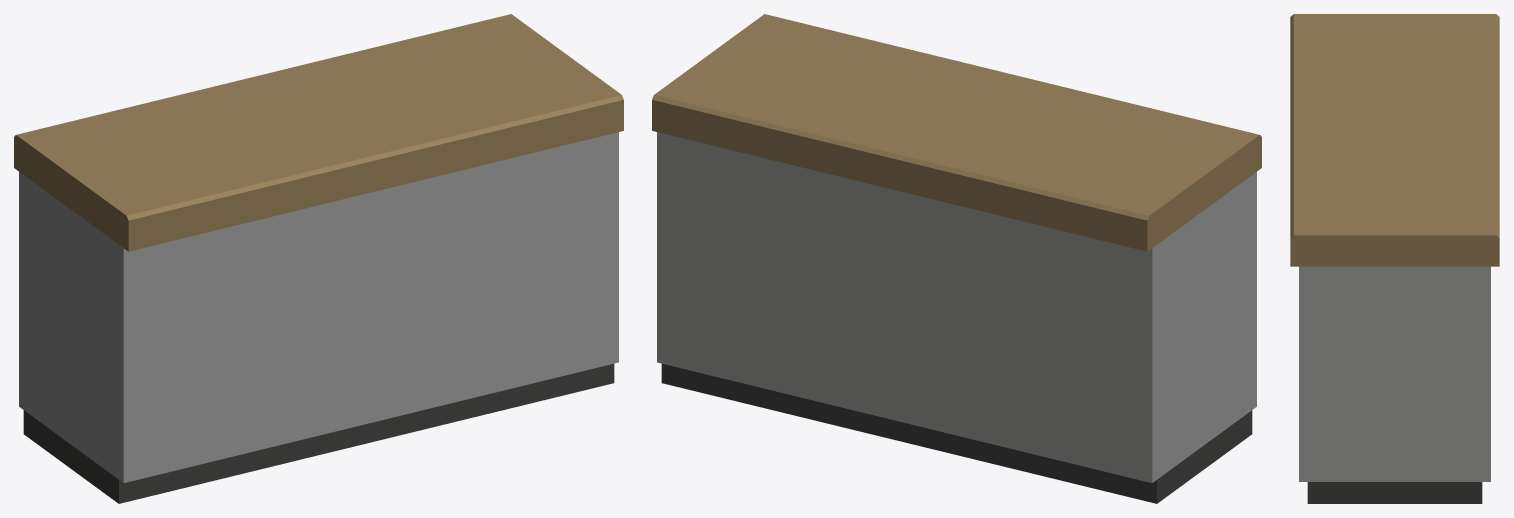
Rendered from SM_Props_Interior_Shop_Counter_Modular_01_Mid.fbx.
3 views of the same model, side by side, from view 1: azimuth 30°, elevation 25°; view 2: azimuth 150°, elevation 25°; view 3: azimuth 270°, elevation 25° (orthographic). The views are drawn at different scales.
Parts seen in each view (by area): view 1: SM_Props_Interior_Shop_Counter_Modular_01_Mid; view 2: SM_Props_Interior_Shop_Counter_Modular_01_Mid; view 3: SM_Props_Interior_Shop_Counter_Modular_01_Mid.
Part boxes in pixels (bbox=[...]): SM_Props_Interior_Shop_Counter_Modular_01_Mid: bbox=[14, 14, 623, 503]; SM_Props_Interior_Shop_Counter_Modular_01_Mid: bbox=[652, 14, 1261, 503]; SM_Props_Interior_Shop_Counter_Modular_01_Mid: bbox=[1290, 14, 1499, 503].
Size of the model in its own units: 150 by 85 by 60.
